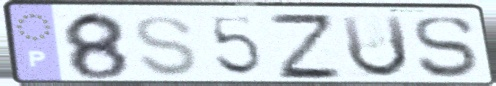5: (207, 14, 267, 78)
8: (59, 10, 135, 82)
S: (132, 13, 202, 79), (410, 14, 479, 80)
U: (337, 13, 412, 80)
Z: (265, 11, 347, 82)
